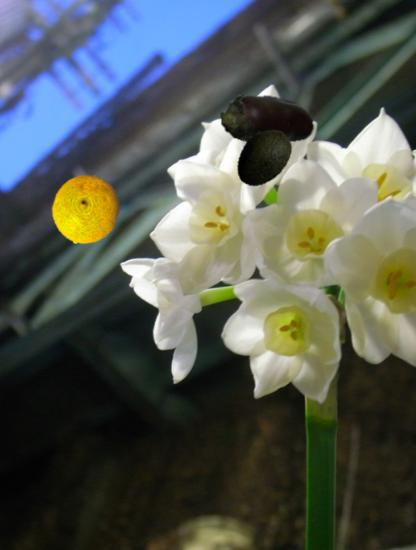Avocado: (231, 125, 296, 190)
Cantaloupe: (50, 174, 122, 246)
Eggplant: (219, 71, 317, 169)
